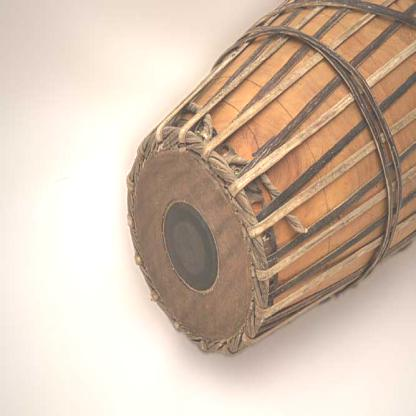Mridangam: (120, 1, 416, 387)
